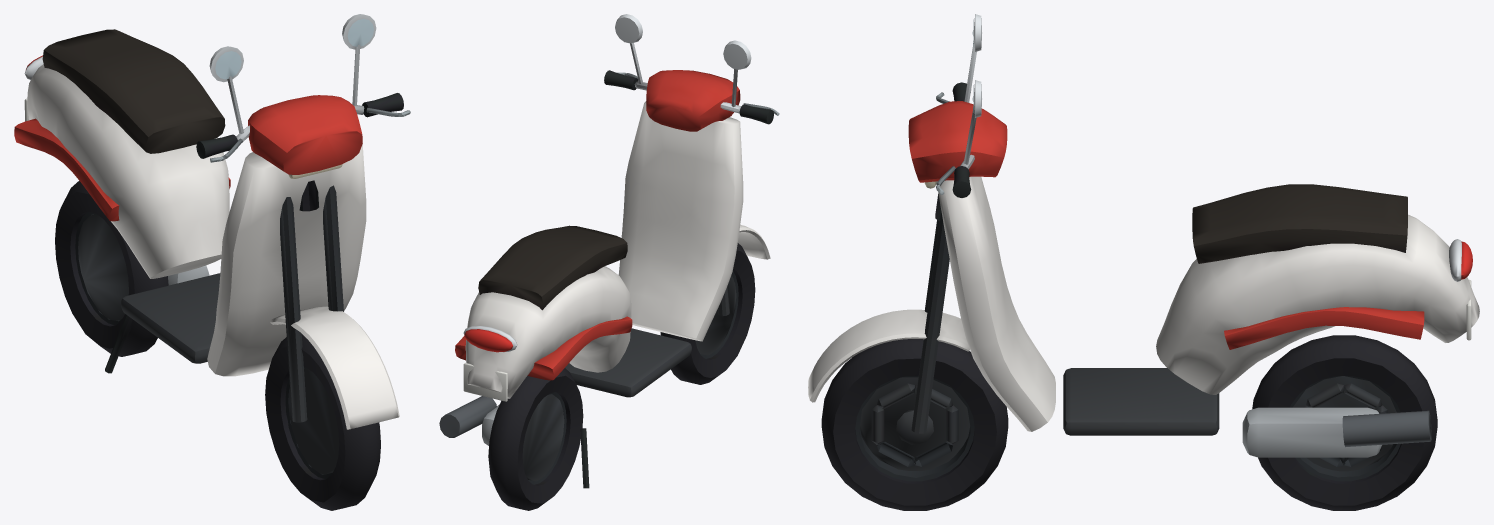
The model's file is veh-scooter.glb.
3 views of the same model, side by side, from view 1: azimuth 30°, elevation 25°; view 2: azimuth 150°, elevation 25°; view 3: azimuth 270°, elevation 25° (orthographic). The views are drawn at different scales.
Visible parts, largest first — view 1: body, wheel0, wheel1; view 2: body, wheel1, wheel0; view 3: body, wheel0, wheel1.
Boxes of the visible parts, x1,y1,x2,y2 form: body: [14, 14, 410, 429]; wheel0: [265, 334, 380, 510]; wheel1: [55, 181, 168, 356]; body: [439, 14, 779, 488]; wheel1: [488, 368, 583, 510]; wheel0: [660, 243, 755, 384]; body: [808, 14, 1479, 457]; wheel0: [821, 339, 1008, 510]; wheel1: [1252, 335, 1437, 510].
Bounding box in the file's own units: 0.61 × 1.3 × 1.72.
